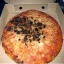olives: (8, 17, 30, 33)
pizza: (3, 10, 62, 64)
